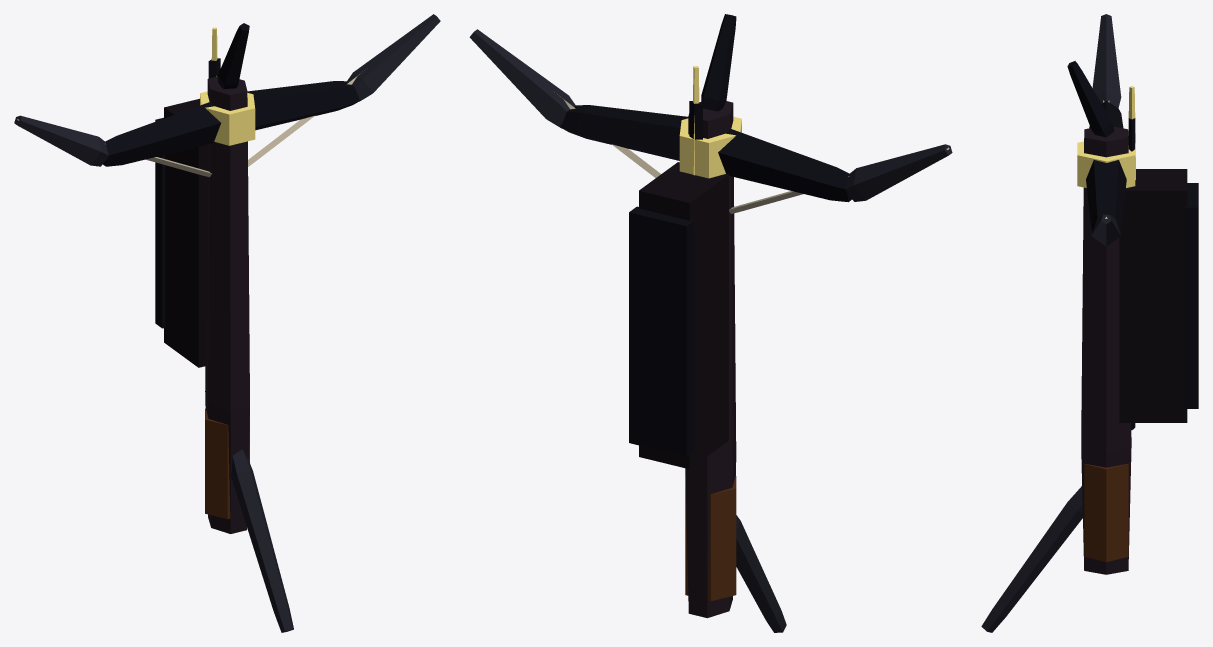
The model's file is wpn_crossbow_10.glb.
3 renders of one model, left to right at view 1: azimuth 30°, elevation 25°; view 2: azimuth 150°, elevation 25°; view 3: azimuth 270°, elevation 25°, orthographic. The views are drawn at different scales.
Visible parts, largest first — view 1: wpn_crossbow_10; view 2: wpn_crossbow_10; view 3: wpn_crossbow_10.
Boxes of the visible parts, x1,y1,x2,y2 form: wpn_crossbow_10: [14, 14, 440, 632]; wpn_crossbow_10: [469, 14, 952, 632]; wpn_crossbow_10: [981, 14, 1198, 632].
Bounding box in the file's own units: 0.5661 × 0.7367 × 0.2543.
